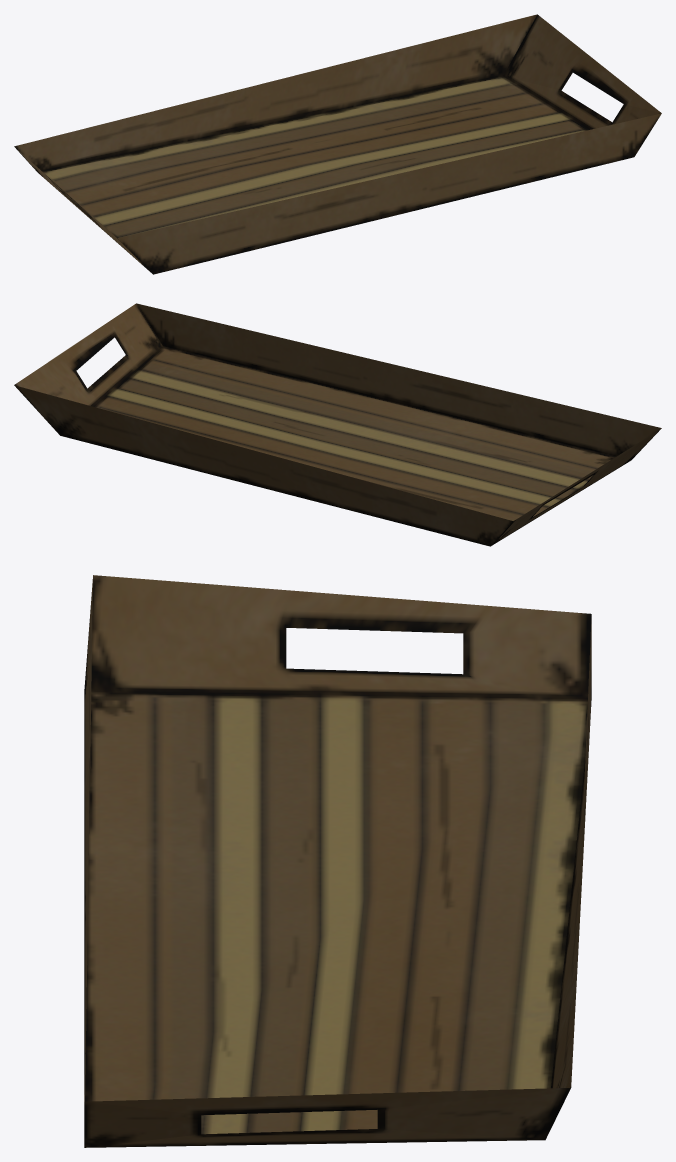
File: Milkshake_tray.fbx
3 views of the same model, one above another, from view 1: azimuth 30°, elevation 25°; view 2: azimuth 150°, elevation 25°; view 3: azimuth 270°, elevation 25° (orthographic). The views are drawn at different scales.
Parts seen in each view (by area): view 1: Milkshake_tray; view 2: Milkshake_tray; view 3: Milkshake_tray.
Boxes of the visible parts, bbox=[...] form: Milkshake_tray: bbox=[14, 14, 661, 274]; Milkshake_tray: bbox=[14, 303, 661, 546]; Milkshake_tray: bbox=[84, 575, 591, 1147].
Size of the model in its own units: 53.58 by 4.42 by 22.27.
Materials: 1 (1 with a texture image).
